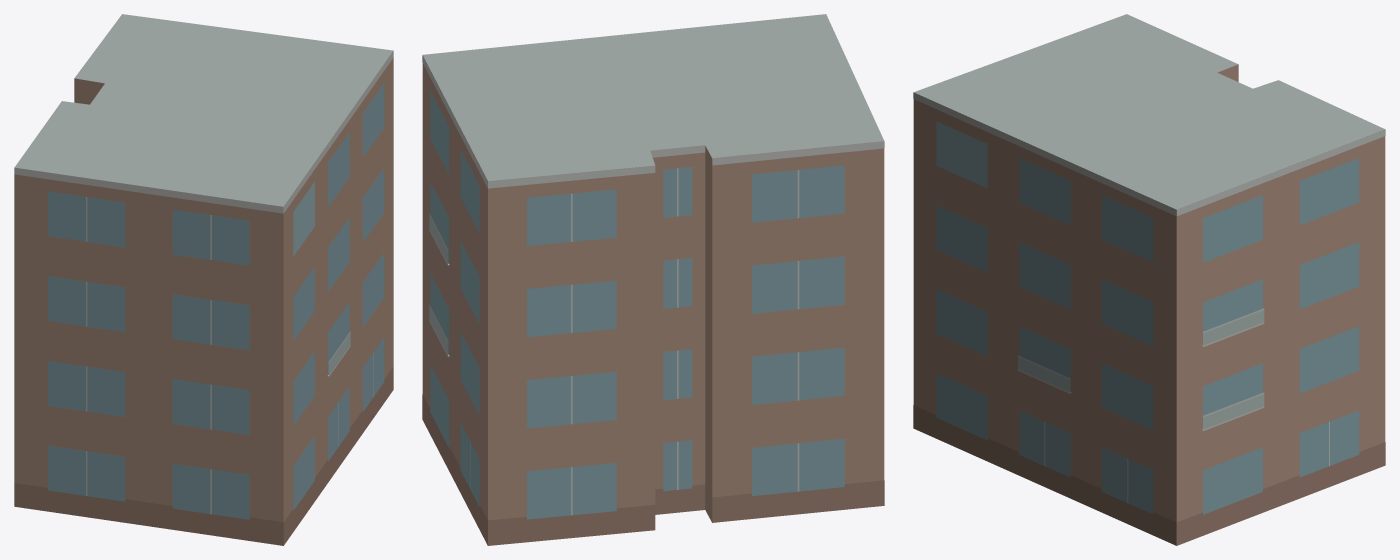
Rendered from survey-upis-32656779.glb.
3 views of the same model, side by side, from view 1: azimuth 30°, elevation 25°; view 2: azimuth 150°, elevation 25°; view 3: azimuth 270°, elevation 25° (orthographic). The views are drawn at different scales.
Parts seen in each view (by area): view 1: survey-upis-32656779.tmp; view 2: survey-upis-32656779.tmp; view 3: survey-upis-32656779.tmp.
Boxes of the visible parts, x1=… form: survey-upis-32656779.tmp: x1=14, y1=14, x2=393, y2=545; survey-upis-32656779.tmp: x1=422, y1=14, x2=884, y2=545; survey-upis-32656779.tmp: x1=913, y1=14, x2=1385, y2=545.
Size of the model in its own units: 15.24 by 12.2 by 15.53.
